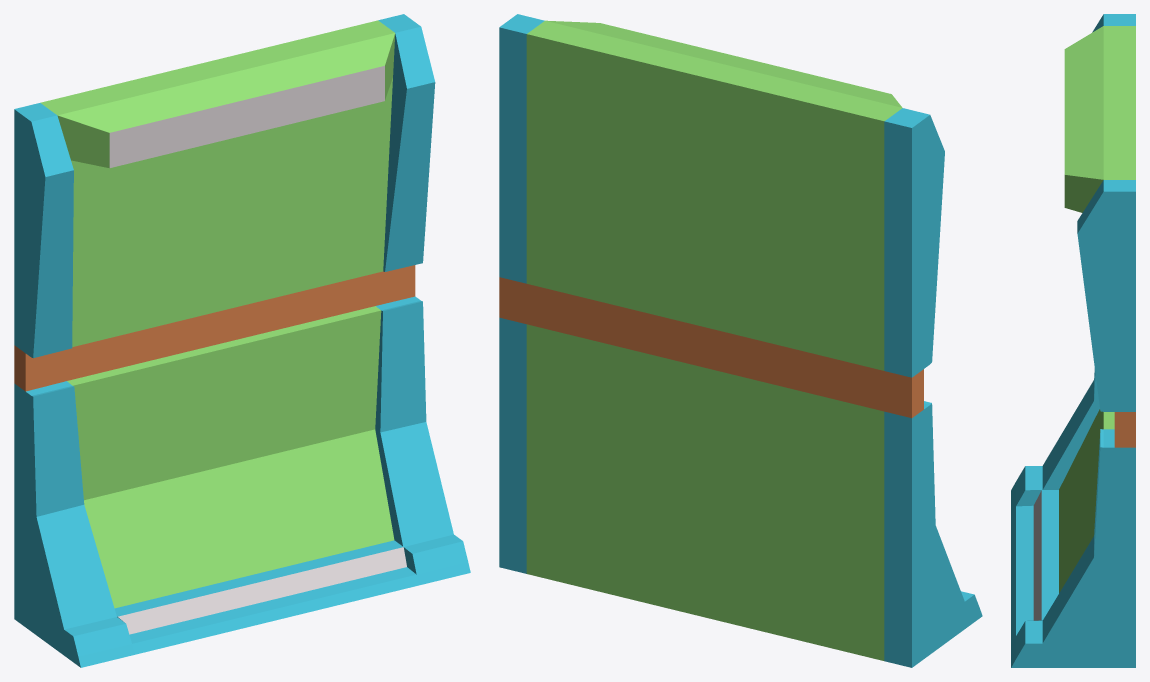
File: Wall.fbx
3 views of the same model, side by side, from view 1: azimuth 30°, elevation 25°; view 2: azimuth 150°, elevation 25°; view 3: azimuth 270°, elevation 25° (orthographic). The views are drawn at different scales.
Visible parts, largest first — view 1: Wall; view 2: Wall; view 3: Wall.
Part boxes in pixels (x1=…): Wall: x1=14, y1=14, x2=470, y2=667; Wall: x1=499, y1=14, x2=982, y2=667; Wall: x1=1011, y1=14, x2=1135, y2=667.
Size of the model in its own units: 200 by 250 by 59.36.
